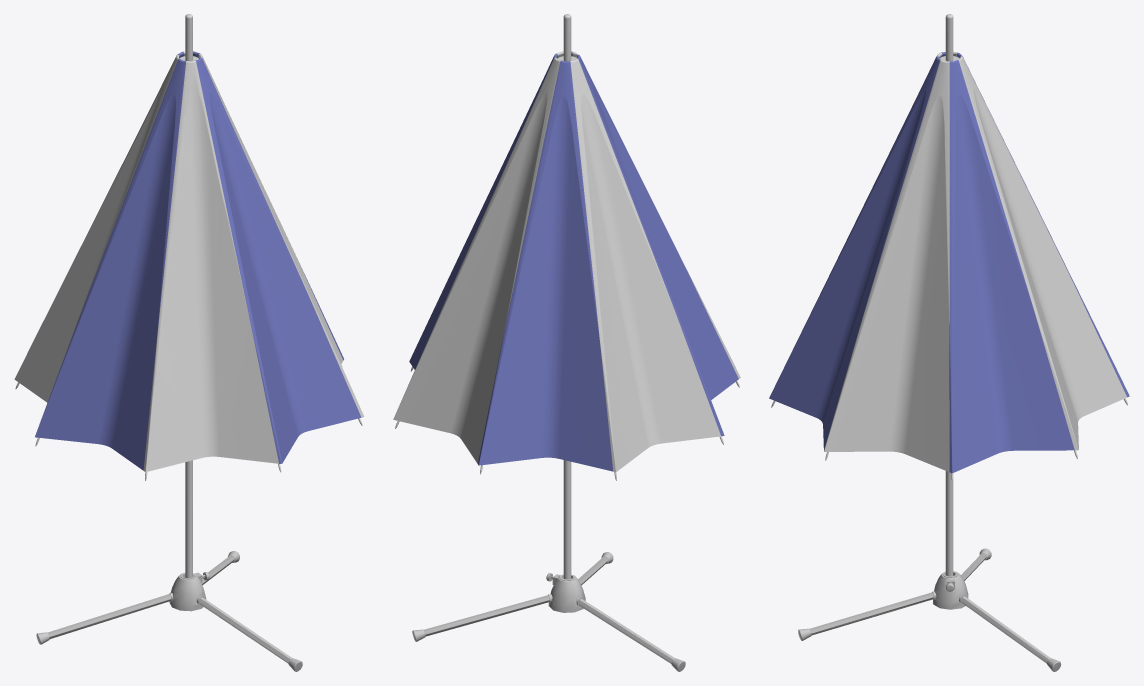
The model's file is closed.glb.
3 views of the same model, side by side, from view 1: azimuth 30°, elevation 25°; view 2: azimuth 150°, elevation 25°; view 3: azimuth 270°, elevation 25° (orthographic).
Parts seen in each view (by area): view 1: Object_187, Object_191, Object_203, Object_184, Object_177, Object_199, Object_141; view 2: Object_182, Object_184, Object_196, Object_191, Object_177, Object_194, Object_141; view 3: Object_194, Object_199, Object_203, Object_196, Object_177, Object_141, Object_182.
Boxes of the visible parts, x1,y1,x2,y2 form: Object_187: (143, 60, 278, 472); Object_191: (35, 58, 186, 470); Object_203: (195, 57, 361, 463); Object_184: (14, 55, 179, 402); Object_177: (36, 551, 302, 671); Object_199: (198, 53, 364, 417); Object_141: (185, 57, 192, 578); Object_182: (478, 60, 613, 471); Object_184: (570, 58, 720, 472); Object_196: (393, 57, 560, 463); Object_191: (577, 55, 738, 436); Object_177: (412, 552, 685, 671); Object_194: (409, 53, 557, 369); Object_141: (563, 57, 571, 579); Object_194: (949, 60, 1074, 473); Object_199: (824, 60, 949, 471); Object_203: (769, 56, 940, 449); Object_196: (958, 56, 1127, 450); Object_177: (798, 548, 1061, 671); Object_141: (945, 57, 953, 576); Object_182: (957, 52, 1129, 397).
Size of the model in its own units: 0.2956 by 0.5523 by 0.2966.
